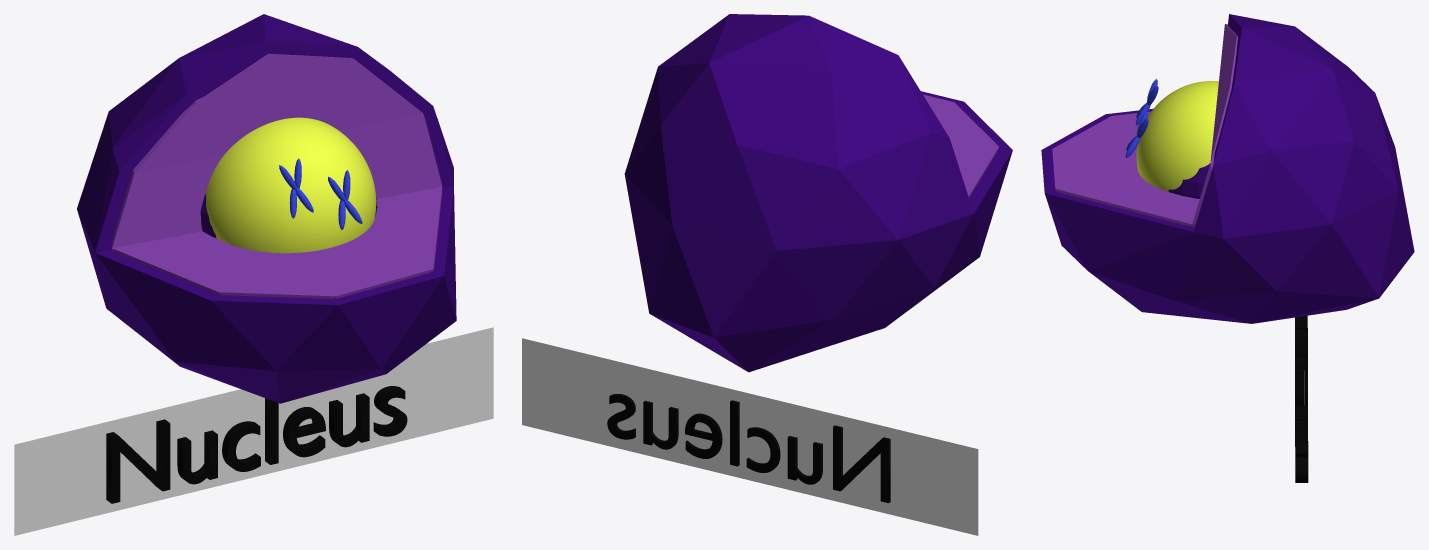
The model's file is nucleus4.gltf.
3 renders of one model, left to right at view 1: azimuth 30°, elevation 25°; view 2: azimuth 150°, elevation 25°; view 3: azimuth 270°, elevation 25°, orthographic. The views are drawn at different scales.
Visible parts, largest first — view 1: Icosphere.002, Icosphere.001, Plane.046, Object_2.004, Text.035; view 2: Icosphere.002, Plane.046, Text.035, Icosphere.001; view 3: Icosphere.002, Icosphere.001, Object_2.004, Text.035.
Boxes of the visible parts, x1,y1,x2,y2 form: Icosphere.002: (77,14,456,403); Icosphere.001: (111,54,442,298); Plane.046: (14,327,493,535); Object_2.004: (205,117,376,253); Text.035: (106,386,407,503); Icosphere.002: (624,14,1012,372); Plane.046: (522,338,978,535); Text.035: (607,394,890,503); Icosphere.001: (923,94,998,197); Icosphere.002: (1041,14,1414,323); Icosphere.001: (1052,24,1237,227); Object_2.004: (1136,81,1218,191); Text.035: (1295,315,1308,482).
Bounding box in the file's own units: 1.33 × 1.25 × 1.06.
